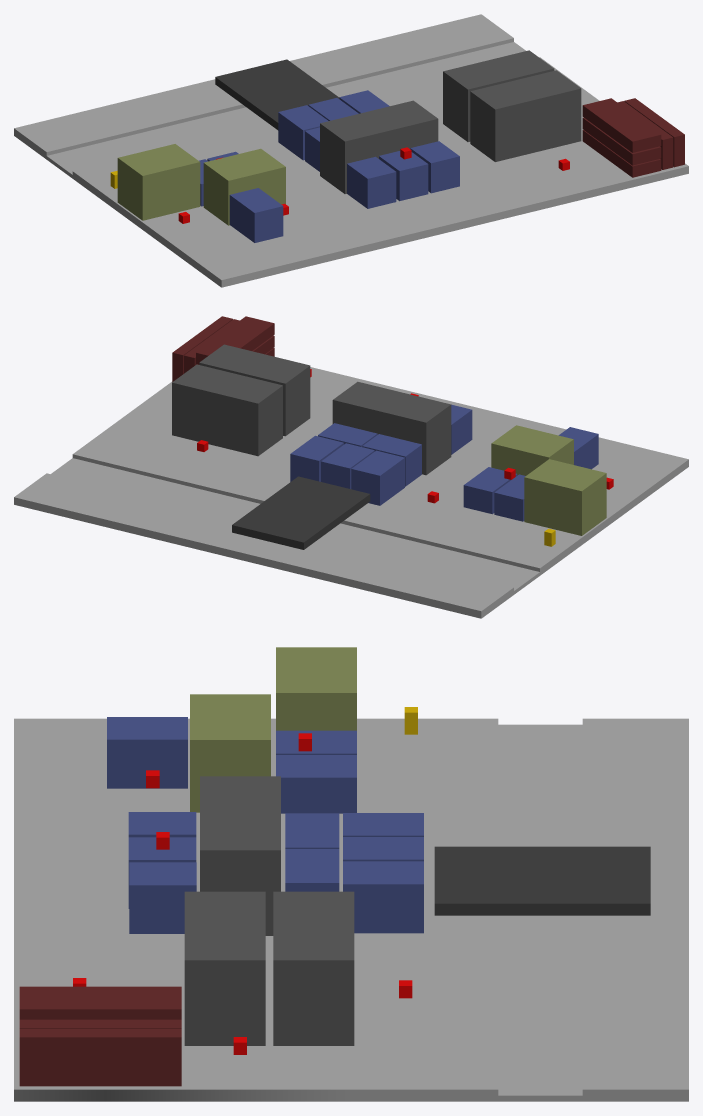
Rendered from Escenario_Almacen.fbx.
3 views of the same model, one above another, from view 1: azimuth 30°, elevation 25°; view 2: azimuth 150°, elevation 25°; view 3: azimuth 270°, elevation 25° (orthographic). The views are drawn at different scales.
Visible parts, largest first — view 1: pasted__pCube1, pasted__pCube20, pasted__pCube37, pasted__pCube4, pasted__pCube36, pasted__pCube21, pasted__pCube16, pasted__pCube17, pasted__pCube30, pasted__pCube14, pasted__pCube12, pasted__pCube13 (+8 smaller); view 2: pasted__pCube1, pasted__pCube21, pasted__pCube37, pasted__pCube36, pasted__pCube4, pasted__pCube20, pasted__pCube16, pasted__pCube5, pasted__pCube30, pasted__pCube7, pasted__pCube2, pasted__pCube6 (+7 smaller); view 3: pasted__pCube1, pasted__pCube36, pasted__pCube21, pasted__pCube20, pasted__pCube37, pasted__pCube33, pasted__pCube16, pasted__pCube4, pasted__pCube17, pasted__pCube30, pasted__pCube7, pasted__pCube2 (+9 smaller).
Boxes of the visible parts, bbox=[...] form: pasted__pCube1: bbox=[14, 14, 688, 287]; pasted__pCube20: bbox=[470, 70, 581, 161]; pasted__pCube37: bbox=[320, 100, 438, 193]; pasted__pCube4: bbox=[117, 144, 200, 220]; pasted__pCube36: bbox=[215, 59, 339, 130]; pasted__pCube21: bbox=[443, 50, 554, 141]; pasted__pCube16: bbox=[203, 148, 285, 225]; pasted__pCube17: bbox=[229, 188, 283, 242]; pasted__pCube30: bbox=[582, 98, 661, 152]; pasted__pCube14: bbox=[347, 156, 396, 208]; pasted__pCube12: bbox=[410, 141, 459, 193]; pasted__pCube13: bbox=[379, 151, 428, 201]; pasted__pCube1: bbox=[14, 367, 688, 618]; pasted__pCube21: bbox=[172, 364, 282, 456]; pasted__pCube37: bbox=[332, 381, 451, 475]; pasted__pCube36: bbox=[232, 476, 370, 549]; pasted__pCube4: bbox=[524, 459, 606, 535]; pasted__pCube20: bbox=[199, 344, 310, 436]; pasted__pCube16: bbox=[491, 425, 573, 475]; pasted__pCube5: bbox=[351, 450, 404, 505]; pasted__pCube30: bbox=[196, 316, 274, 364]; pasted__pCube7: bbox=[290, 435, 343, 481]; pasted__pCube2: bbox=[463, 467, 517, 514]; pasted__pCube6: bbox=[321, 443, 374, 488]; pasted__pCube1: bbox=[14, 718, 688, 1101]; pasted__pCube36: bbox=[434, 846, 650, 915]; pasted__pCube21: bbox=[273, 891, 354, 1045]; pasted__pCube20: bbox=[184, 891, 265, 1045]; pasted__pCube37: bbox=[200, 776, 280, 935]; pasted__pCube33: bbox=[19, 1029, 181, 1086]; pasted__pCube16: bbox=[190, 694, 270, 812]; pasted__pCube4: bbox=[276, 647, 356, 730]; pasted__pCube17: bbox=[107, 717, 187, 788]; pasted__pCube30: bbox=[19, 986, 181, 1019]; pasted__pCube7: bbox=[343, 861, 423, 933]; pasted__pCube2: bbox=[276, 755, 356, 813].
Size of the model in its own units: 65 by 8 by 50.
